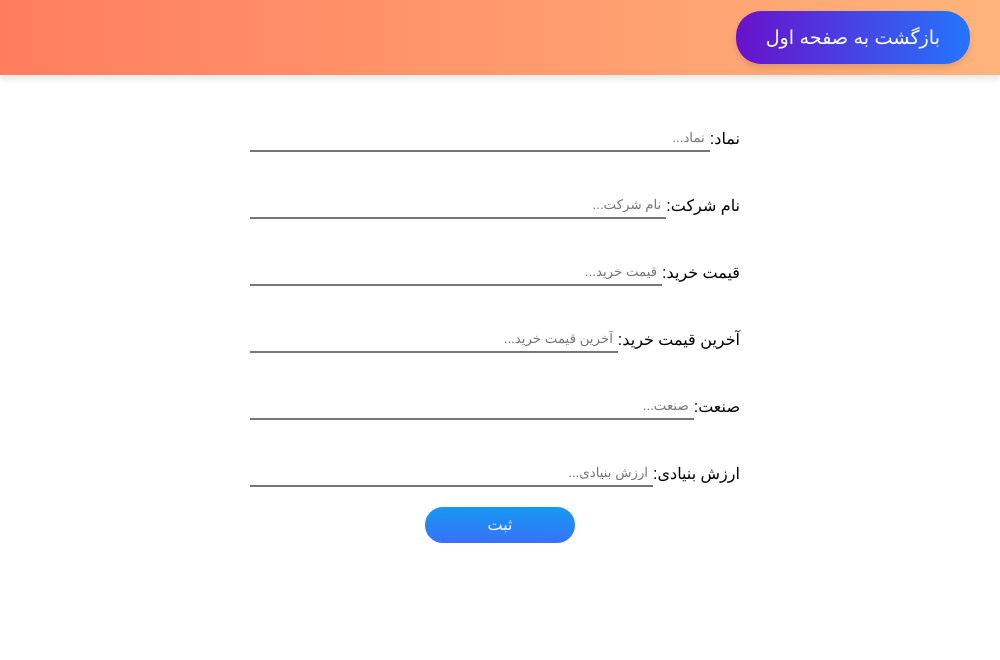
Test: StockAddForm › should show validation errors for empty required fields
Click the submit button.
click(500, 525)  # box [425, 507, 575, 543]
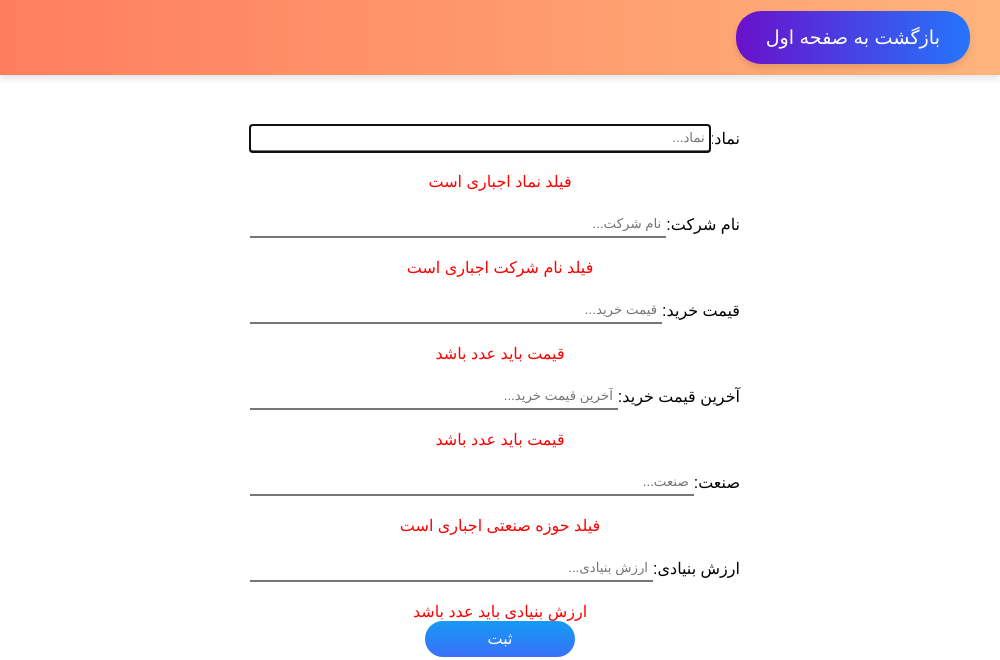
Check: the text "فیلد نماد اجباری است" is shown, box [428, 173, 572, 190]
Check: the text "فیلد نام شرکت اجباری است" is shown, box [407, 259, 593, 276]
Check: the 1st text " قیمت باید عدد باشد" is shown, box [435, 345, 564, 362]
